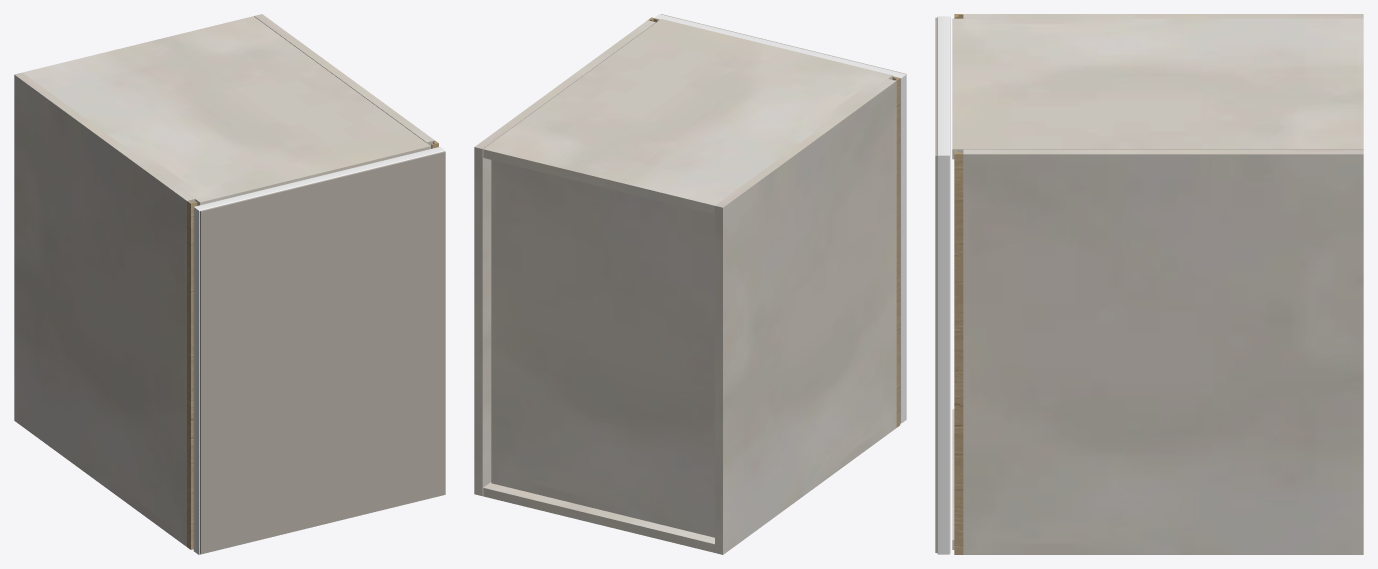
File: WALL LOFT CABINET 1 SHELF (H600xW450xD560) WLC1S1HS_LH.glb
3 views of the same model, side by side, from view 1: azimuth 30°, elevation 25°; view 2: azimuth 150°, elevation 25°; view 3: azimuth 270°, elevation 25° (orthographic). The views are drawn at different scales.
Size of what is drawn, in the model's own units: 0.45 by 0.6 by 0.5809.
Materials: 6 (3 with a texture image).
